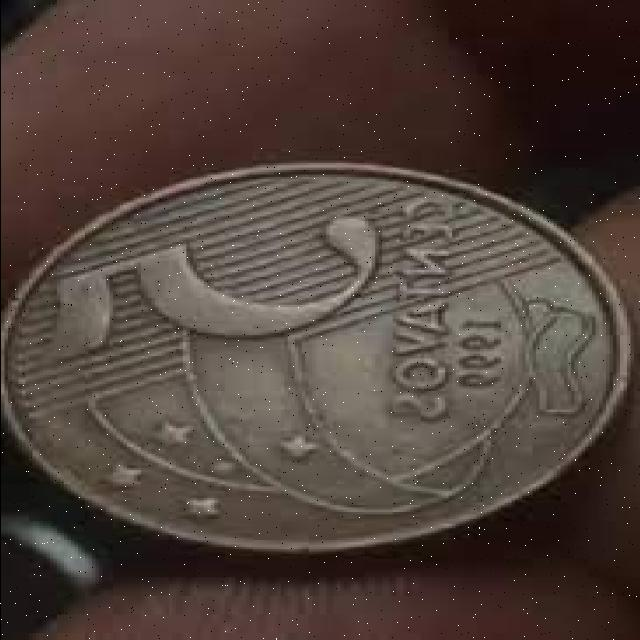5 cent: (2, 161, 614, 552)
